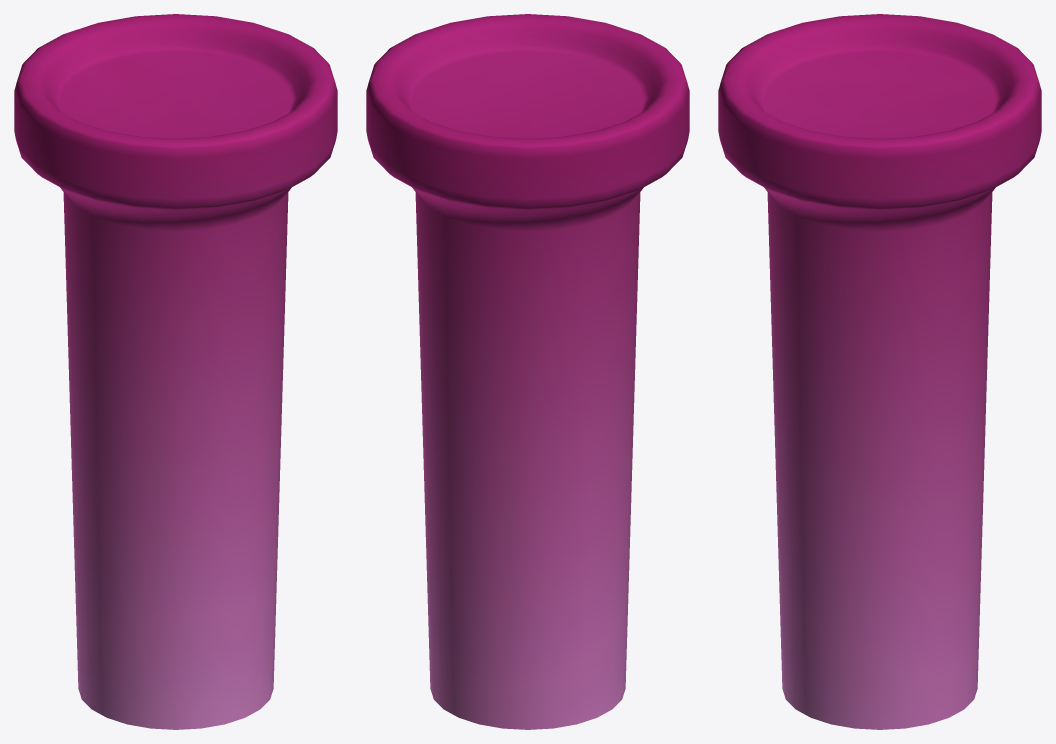
Rendered from Platform008.fbx.
3 renders of one model, left to right at view 1: azimuth 30°, elevation 25°; view 2: azimuth 150°, elevation 25°; view 3: azimuth 270°, elevation 25°, orthographic.
Parts seen in each view (by area): view 1: Platform7; view 2: Platform7; view 3: Platform7.
Boxes of the visible parts, x1=… form: Platform7: x1=14, y1=14, x2=337, y2=729; Platform7: x1=366, y1=14, x2=689, y2=729; Platform7: x1=718, y1=14, x2=1041, y2=729.
Bounding box in the file's own units: 154 × 321 × 154.
